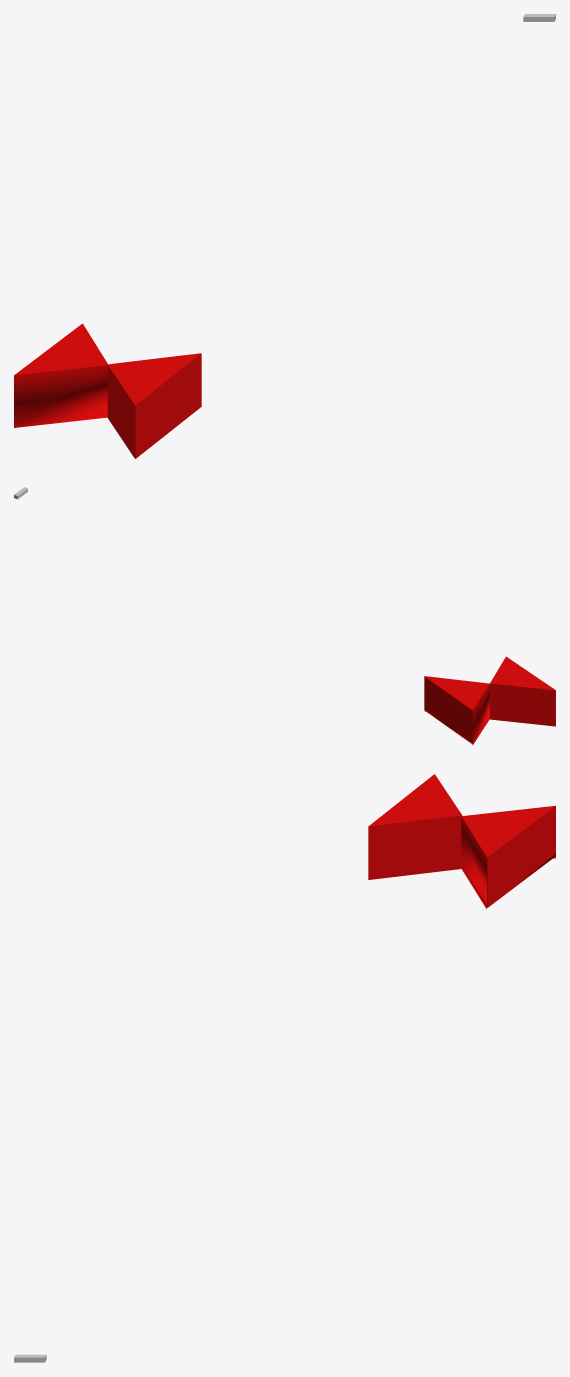
The model's file is Rune1NoStoneMapped.fbx.
3 views of the same model, one above another, from view 1: azimuth 90°, elevation 25°; view 2: azimuth 150°, elevation 25°; view 3: azimuth 270°, elevation 25° (orthographic). The views are drawn at different scales.
Parts seen in each view (by area): view 1: Cube.004, Cube.005; view 2: Cube.004, Cube.005; view 3: Cube.004, Cube.005.
Part boxes in pixels (box(x1,y1,x2,y2)): Cube.004: box(107, 353, 201, 458); Cube.005: box(14, 323, 107, 427); Cube.004: box(490, 656, 555, 726); Cube.005: box(424, 676, 489, 745); Cube.004: box(368, 774, 462, 879); Cube.005: box(461, 805, 555, 909).
Bounding box in the file's own units: 709 × 68.49 × 333.
